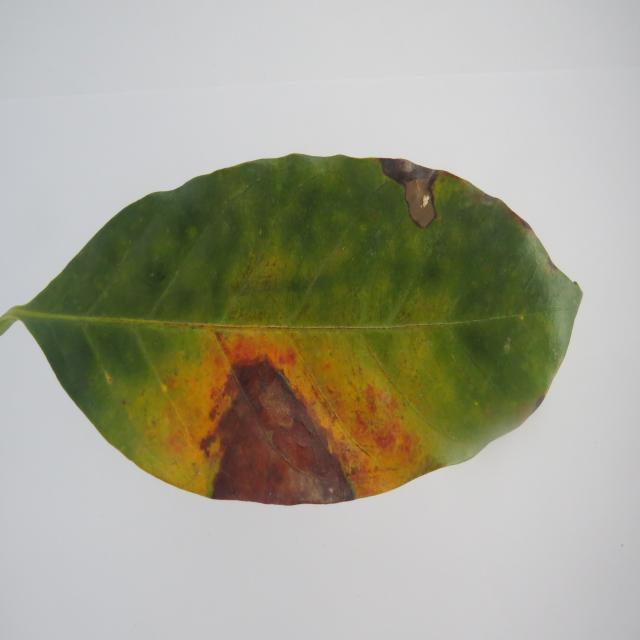DeficienciaNutricional-Fosforo: (0, 155, 581, 505)
